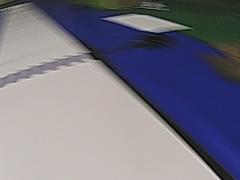CrossWalk: (0, 49, 100, 89)
